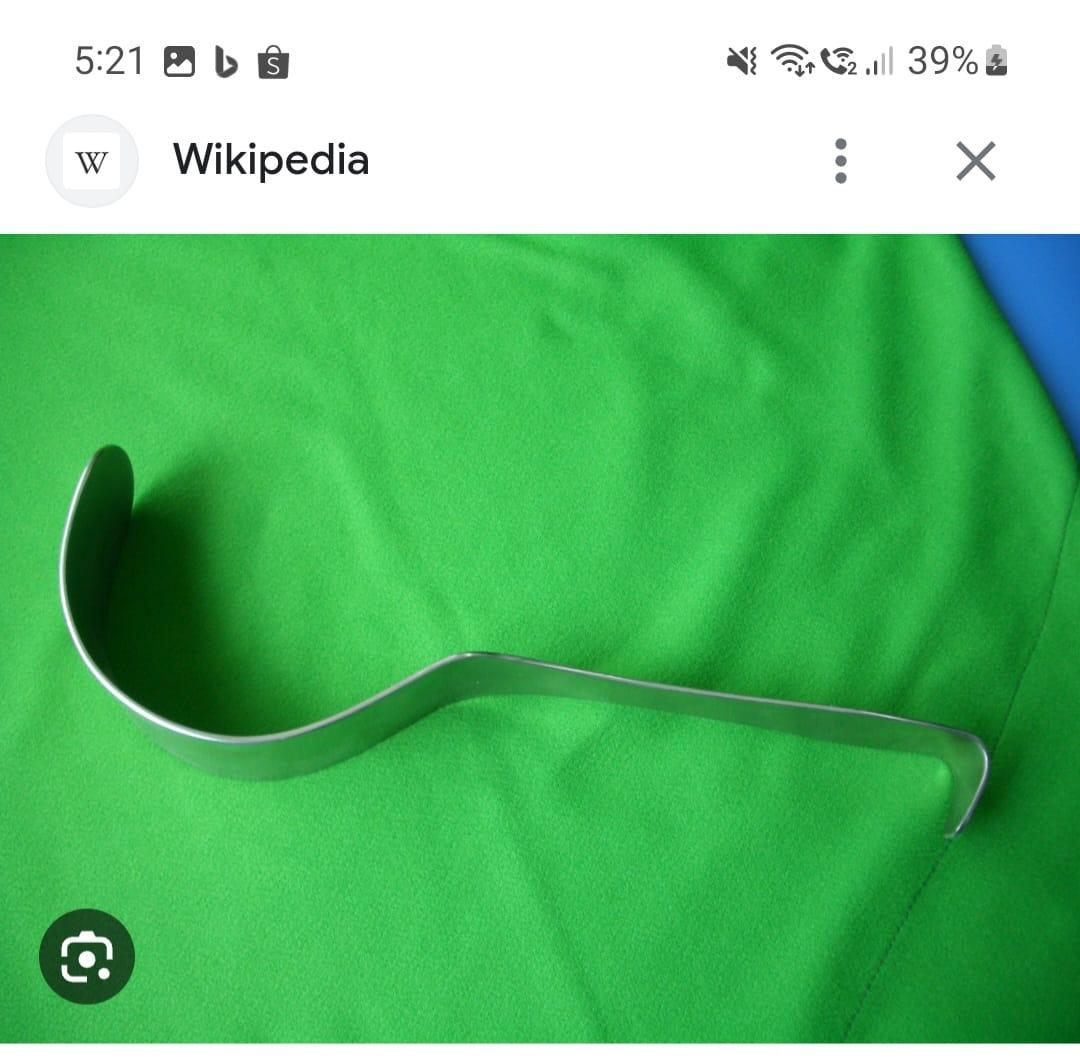Deaver Retractor: (58, 437, 1002, 852)
